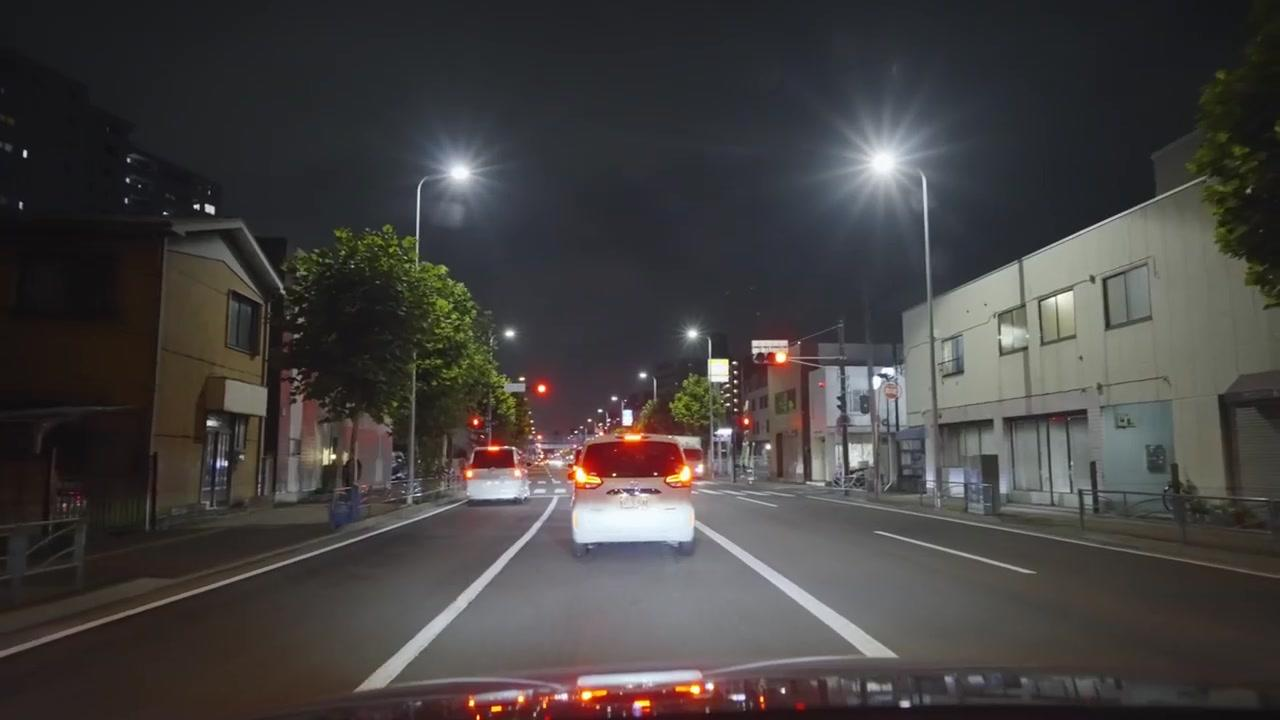car: (567, 434, 698, 561), (464, 445, 531, 503), (544, 451, 573, 484)
traffic light: (532, 380, 550, 397), (737, 413, 753, 432), (468, 413, 483, 432)
